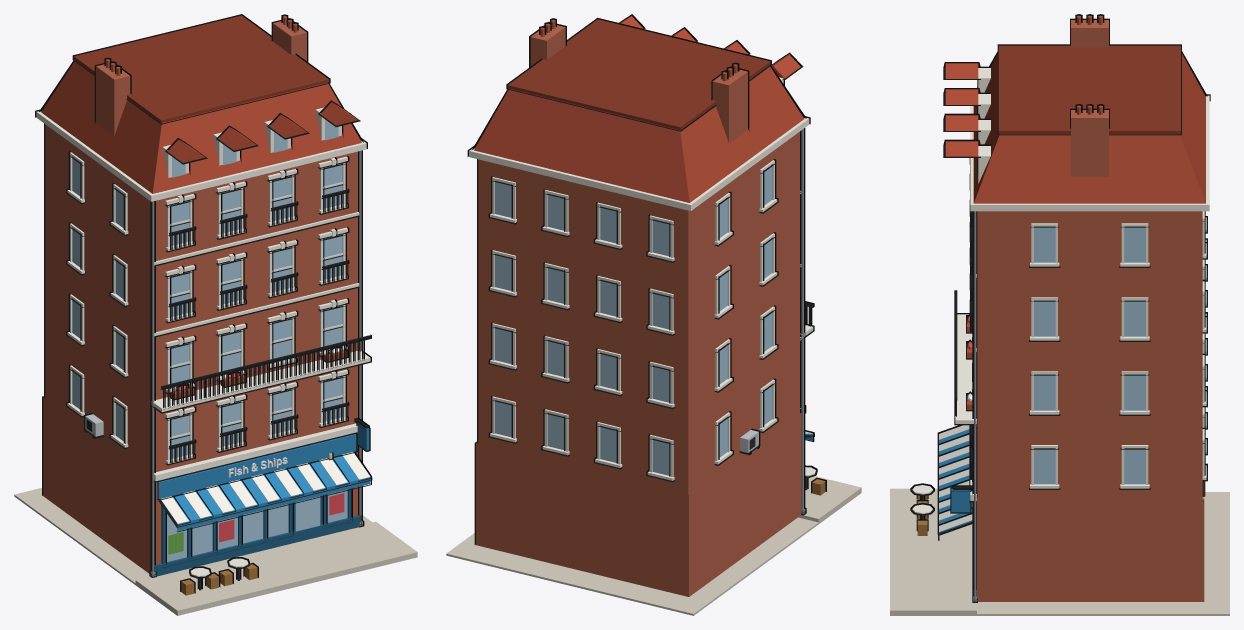
Rendered from Dukkan_fish_ships.fbx.
3 views of the same model, side by side, from view 1: azimuth 30°, elevation 25°; view 2: azimuth 150°, elevation 25°; view 3: azimuth 270°, elevation 25° (orthographic). The views are drawn at different scales.
Parts seen in each view (by area): view 1: Dukkan_fish_ships; view 2: Dukkan_fish_ships; view 3: Dukkan_fish_ships.
Part boxes in pixels (x1=…): Dukkan_fish_ships: x1=14, y1=14, x2=417, y2=615; Dukkan_fish_ships: x1=446, y1=14, x2=861, y2=615; Dukkan_fish_ships: x1=890, y1=14, x2=1229, y2=615.
Bounding box in the file's own units: 10.62 × 20.06 × 12.5.
